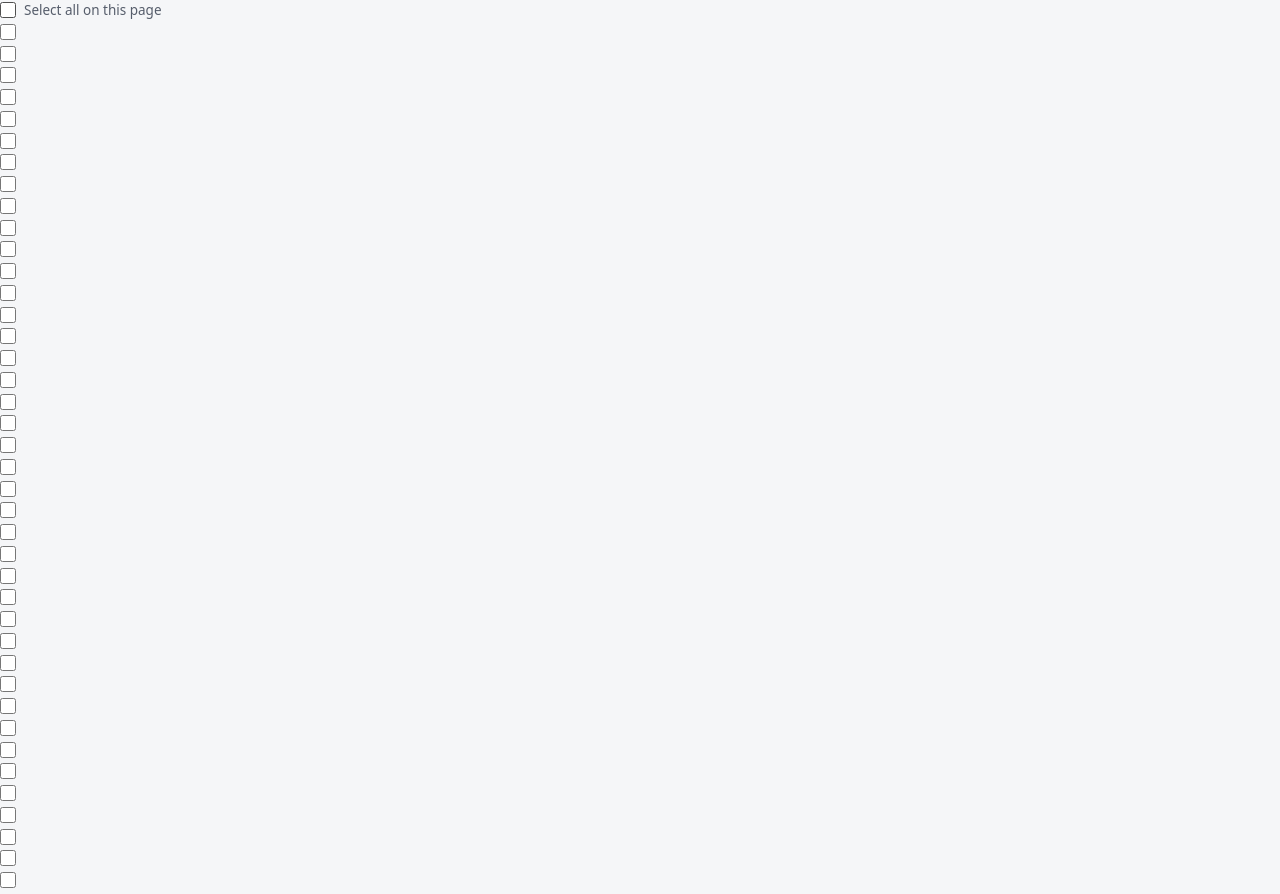
selection (AC-1) › Download zip is disabled above 100 files, with the reason (AC-2)
What coordinates should you click on to do the following:
click the checkbox labelled "Select all on this page"
I would click on:
 (8, 10)
Its box is left=0, top=2, right=16, bottom=18.
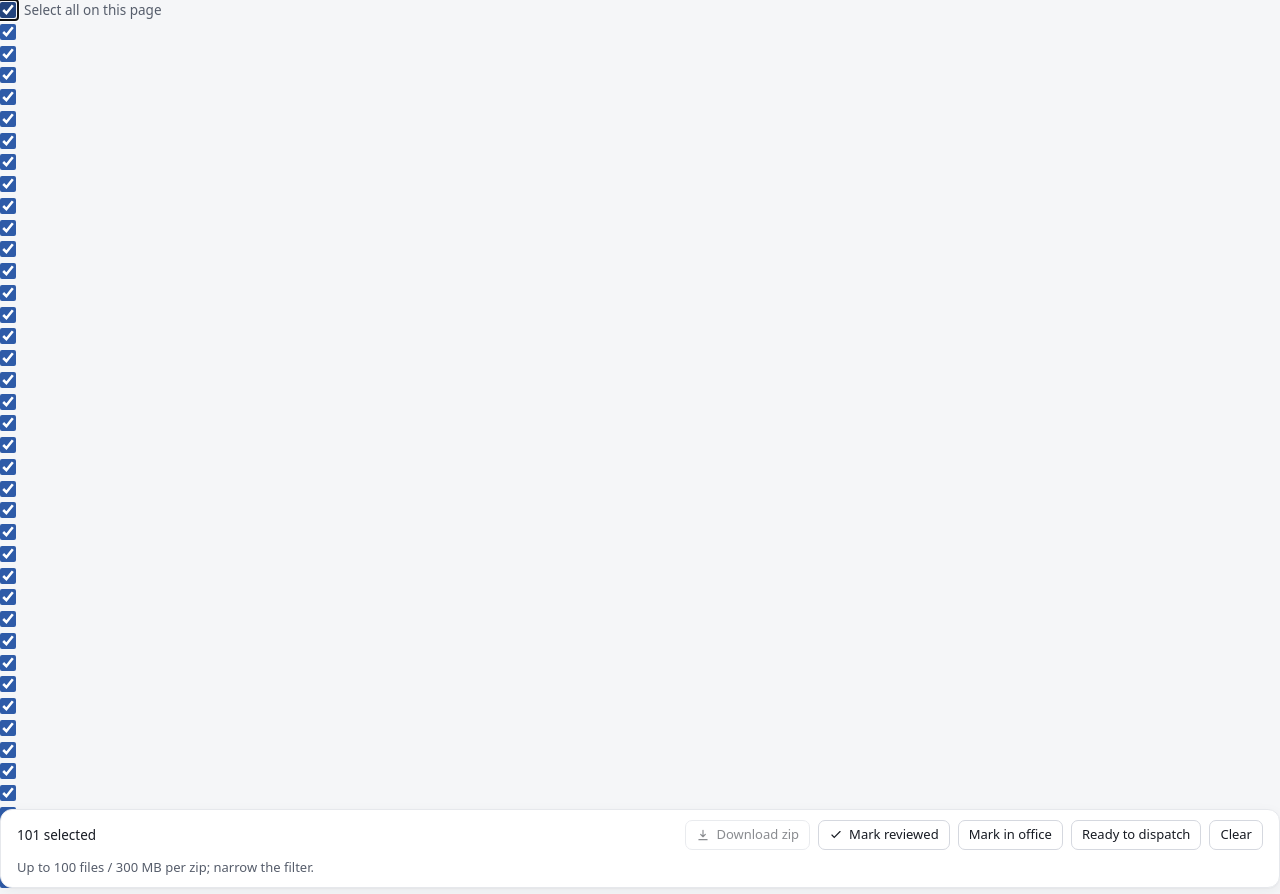
Expected: the button "Download zip" is disabled, left=685, top=820, right=810, bottom=850
Expected: the button "Mark reviewed" is enabled, left=818, top=820, right=950, bottom=850
